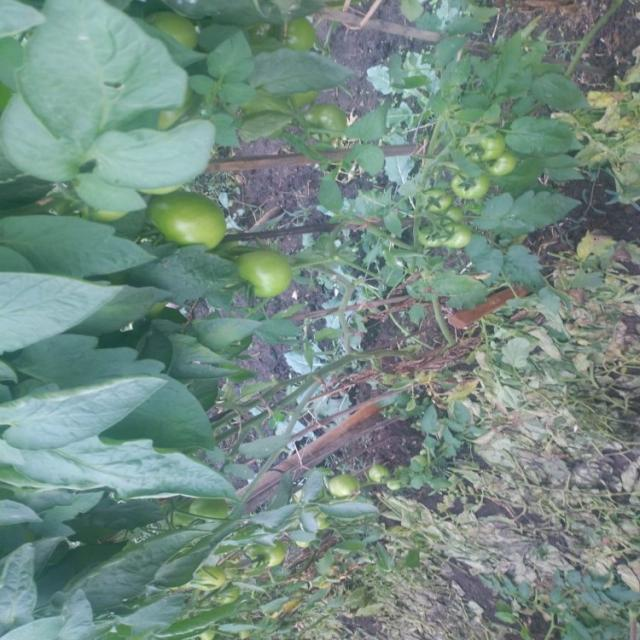tomato: (160, 191, 224, 243), (242, 249, 295, 307), (145, 10, 201, 57), (281, 19, 318, 61), (469, 121, 495, 165), (305, 104, 339, 137), (450, 171, 482, 202), (248, 538, 278, 566), (447, 219, 470, 250), (421, 189, 445, 218), (330, 474, 362, 495), (487, 156, 515, 179), (368, 457, 390, 481), (417, 225, 442, 243)
